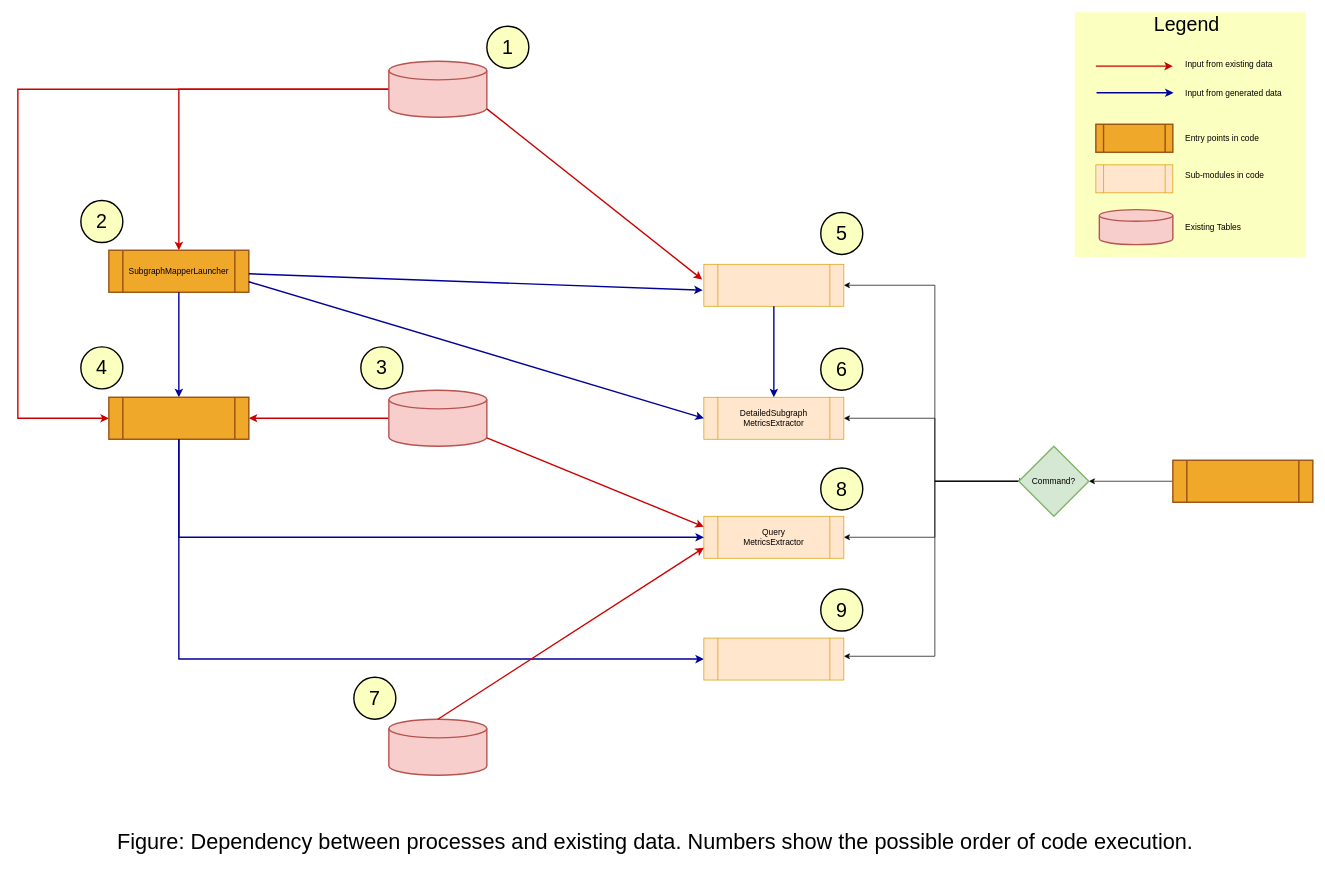
This 1325x885 diagram has some shape labels left out. Each missing label, with the box of its shape:
Event Queries Table: (388, 718, 487, 776)
GeneralSubgraph MetricsExtractor: (703, 264, 844, 306)
Processed Queries Table: (388, 389, 487, 447)
SubgraphMetricsLauncher: (1172, 459, 1313, 503)
SubgraphPairQuery MetricsExtractor: (703, 637, 844, 680)
SubgraphQueryMapper Launcher: (108, 396, 249, 440)
Wikidata Triples Table: (388, 60, 487, 118)
